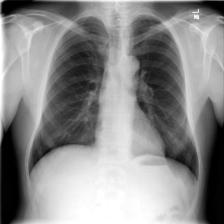normal: (25, 14, 204, 187)
